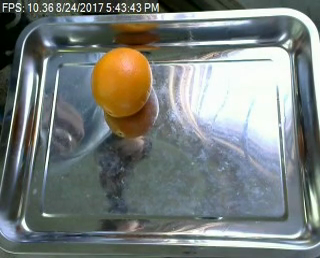Orange: (90, 45, 153, 116)
